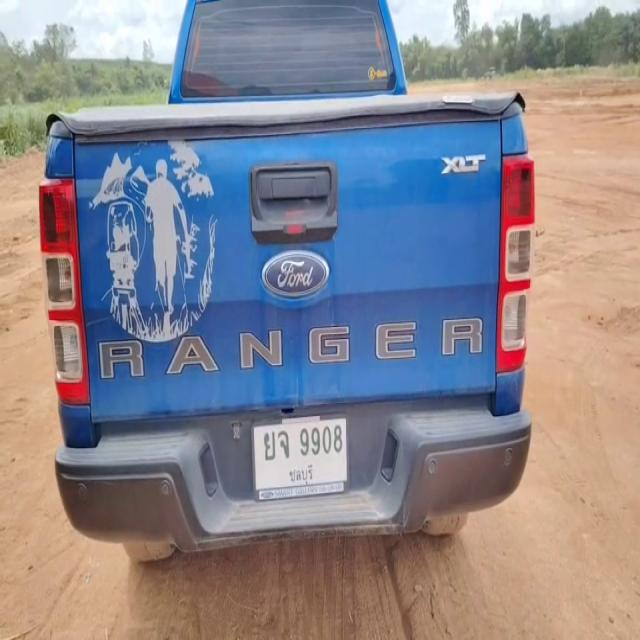Digit: (299, 423, 343, 458)
Licenseplate: (251, 417, 350, 495)
Provincename: (288, 463, 314, 486)
Thaichar: (264, 429, 290, 462)
